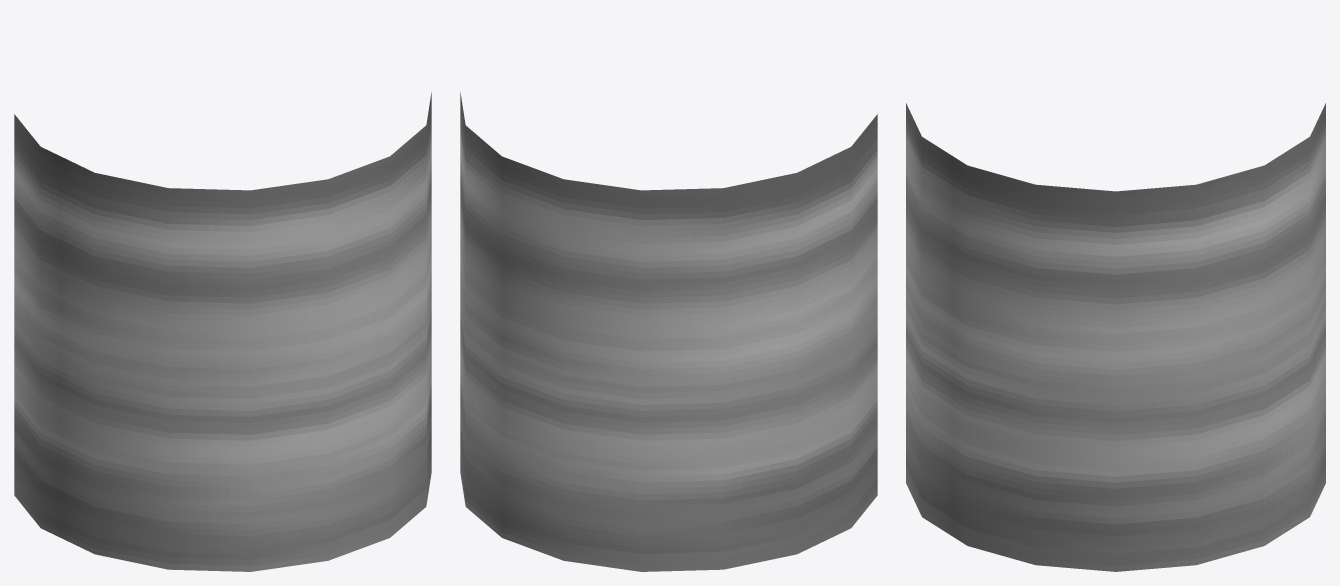
The model's file is TornadoCylinder.glb.
The picture shows the model from 3 angles, left to right: view 1: azimuth 30°, elevation 25°; view 2: azimuth 150°, elevation 25°; view 3: azimuth 270°, elevation 25°; orthographic projection.
Parts seen in each view (by area): view 1: Cylinder; view 2: Cylinder; view 3: Cylinder.
Boxes of the visible parts, bbox=[...] form: Cylinder: bbox=[14, 92, 431, 571]; Cylinder: bbox=[460, 92, 877, 571]; Cylinder: bbox=[906, 103, 1325, 571].
Size of the model in its own units: 2 by 2 by 2.
1 material, 1 textured.
